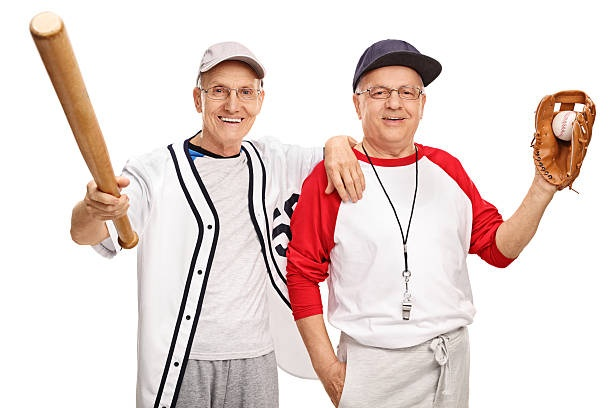bita: (27, 11, 140, 243)
